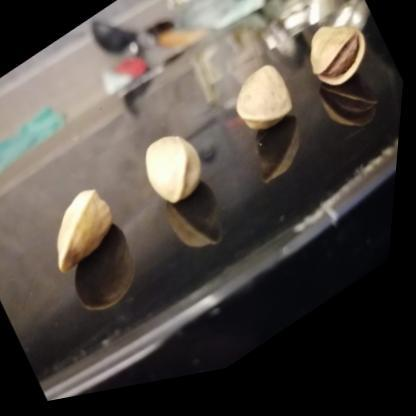pistachio: (37, 183, 129, 270), (234, 66, 301, 132), (311, 26, 364, 95), (141, 138, 206, 193)
